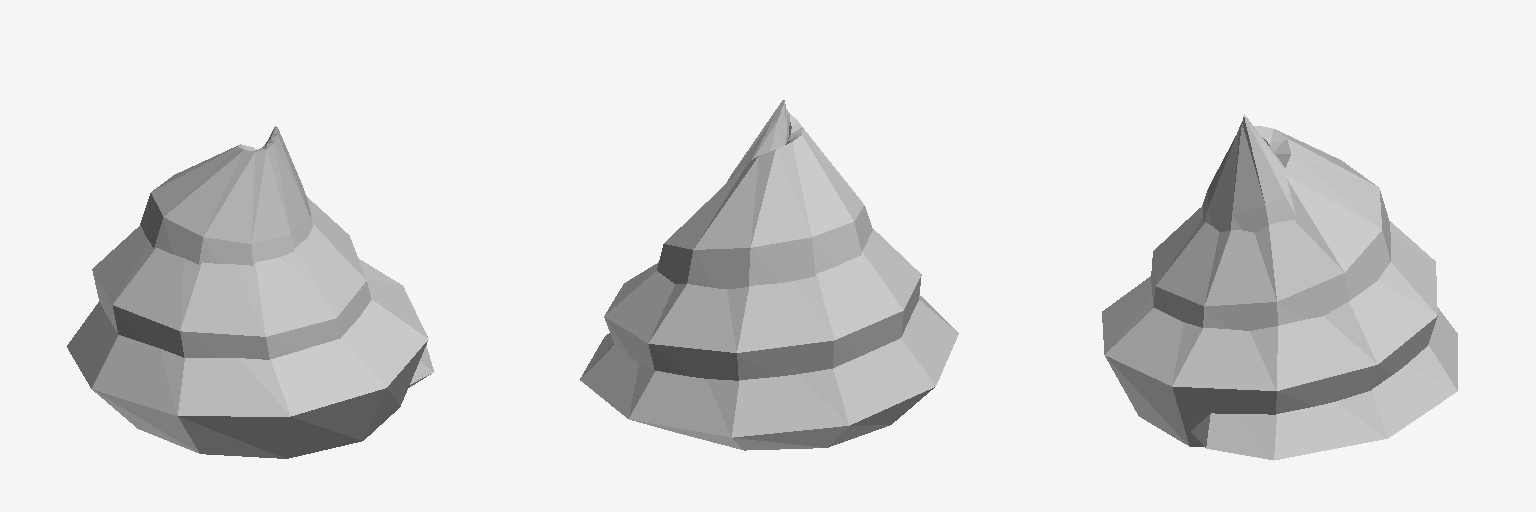
Rendered from pile_of_poo.obj.
3 renders of one model, left to right at view 1: azimuth 30°, elevation 25°; view 2: azimuth 150°, elevation 25°; view 3: azimuth 270°, elevation 25°, orthographic.
Bounding box in the file's own units: 0.4609 × 0.3772 × 0.4275.